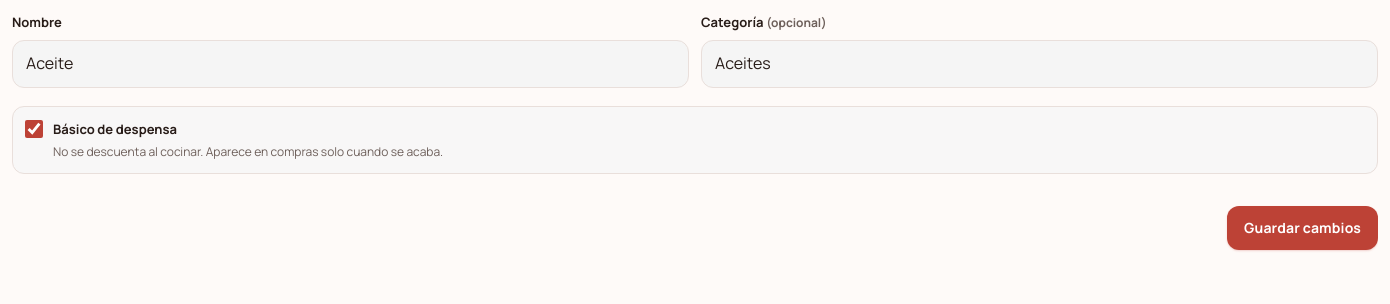
Test: IngredientForm › exposes API errors in an alert
Replace the text in the field labelled "Nombre" with "Aceite nuevo". click: coordinates (350, 64)
box: [12,40,689,88]
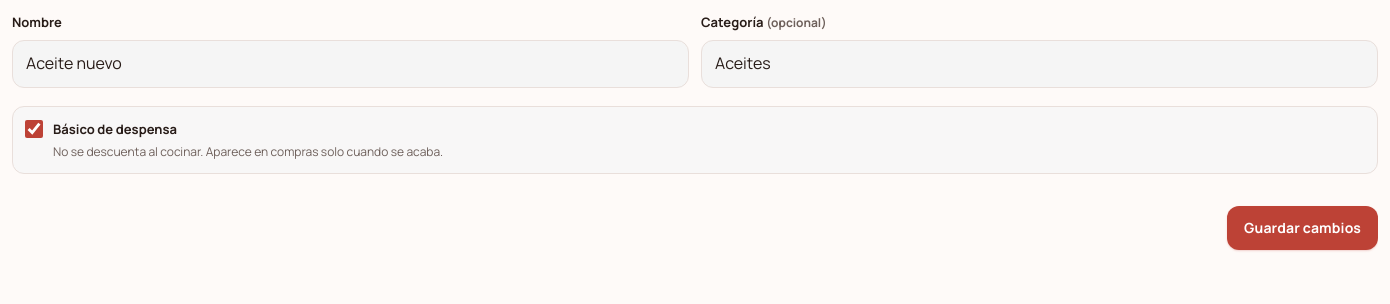
Submit the form named "Guardar cambios"
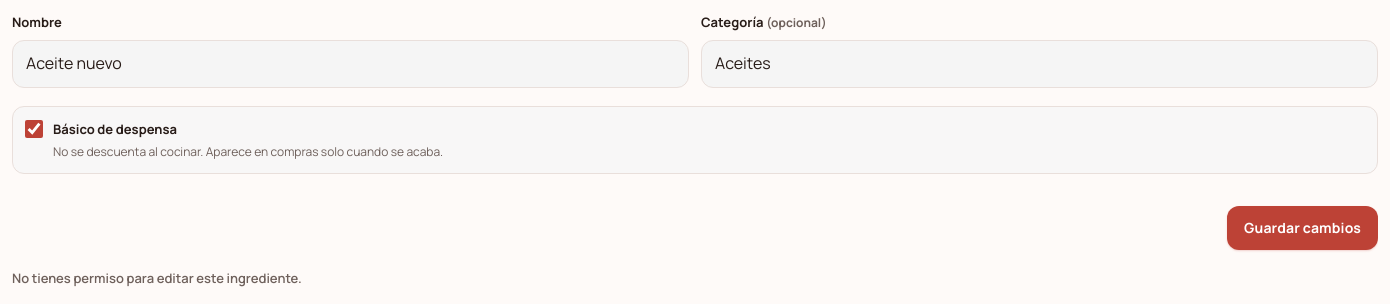
Now the message reads "No tienes permiso para editar este ingrediente.", box [12,269,302,287]
